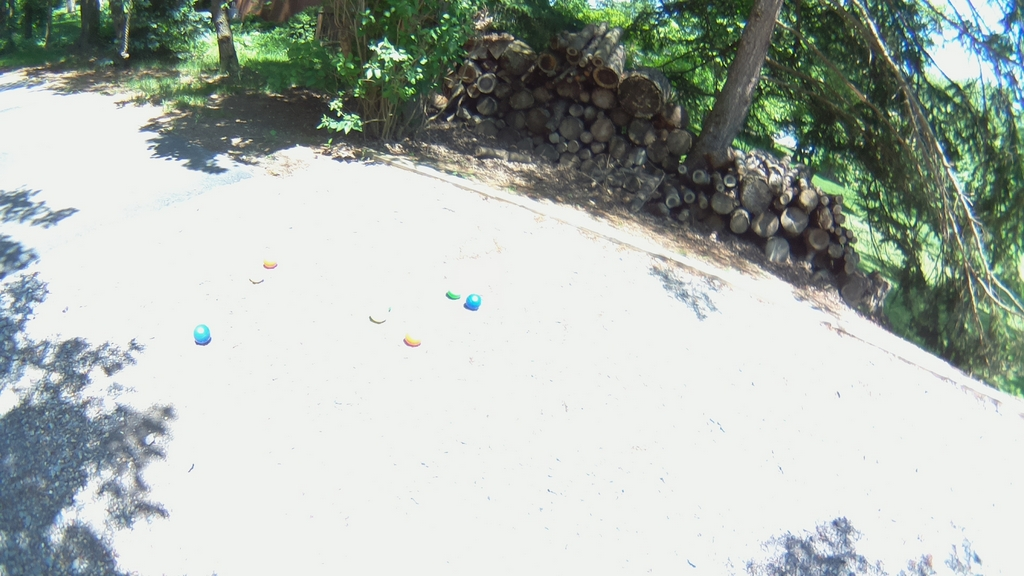ball: (265, 251, 276, 271)
